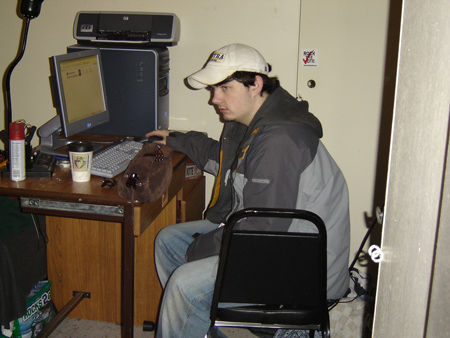person: (145, 45, 352, 338)
